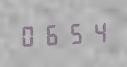five: (62, 20, 83, 45)
four: (84, 18, 105, 44)
six: (40, 21, 61, 47)
zero: (18, 22, 39, 48)
